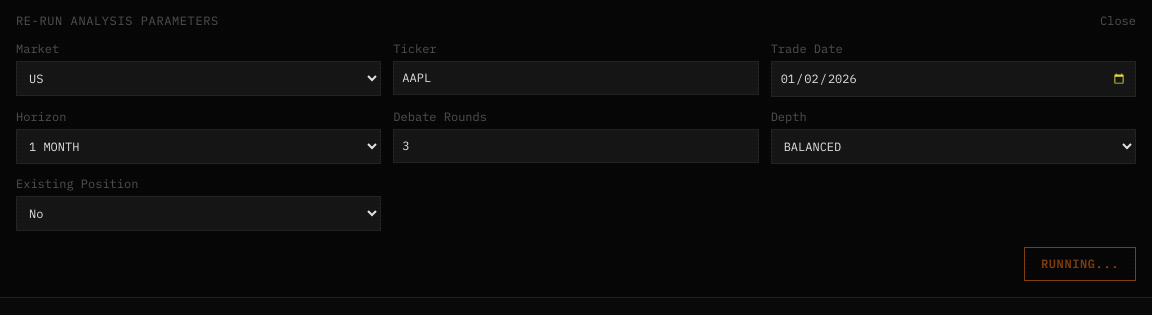
Test: RerunPanel › reveals position fields and disables submit while running
expect the field labelled "Quantity" is not shown: met
Select "Yes" in the dropdown labelled "Existing Position": (199, 214) x1=16 y1=196 x2=381 y2=231
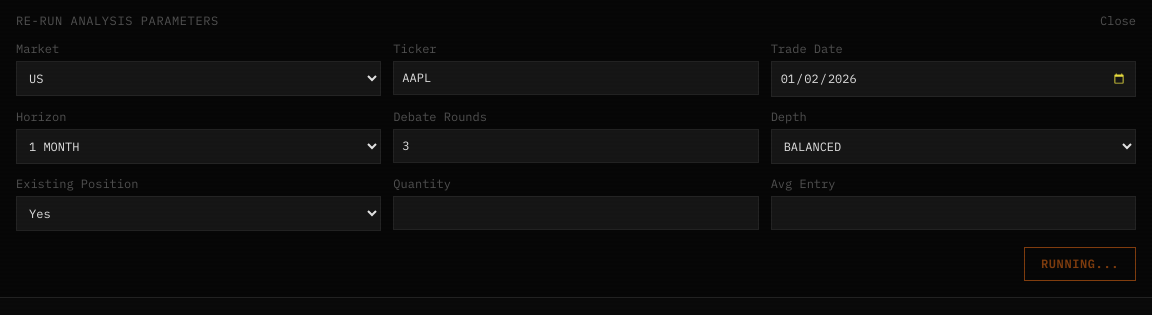
expect the button "RUNNING..." is disabled: met, box x1=1024 y1=247 x2=1136 y2=281
expect the field labelled "Quantity" is shown: met, box x1=393 y1=196 x2=759 y2=230
expect the field labelled "Avg Entry" is shown: met, box x1=771 y1=196 x2=1136 y2=230
